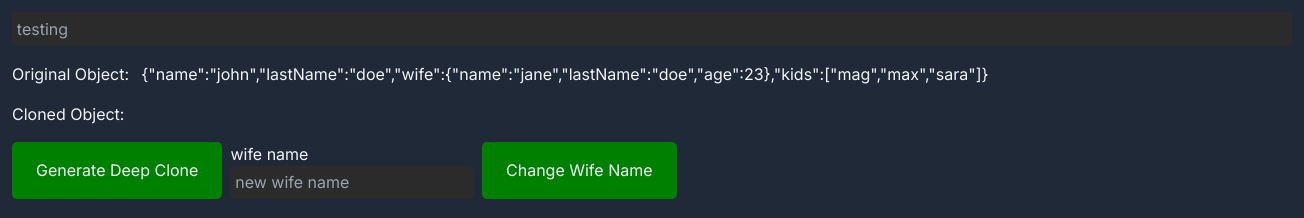
Test case: change wife name in orginal object
Step 1. Type "jenifer" into the field labelled "wife name" → (352, 182), box [230,166,474,199]
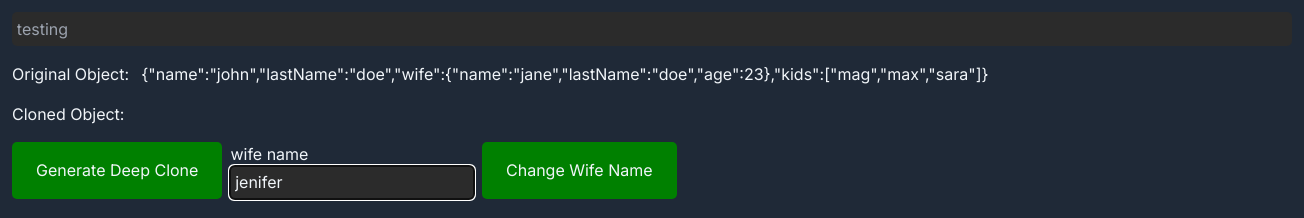
Step 2. Click the button "change wife name" → (579, 170), box [482,142,676,199]
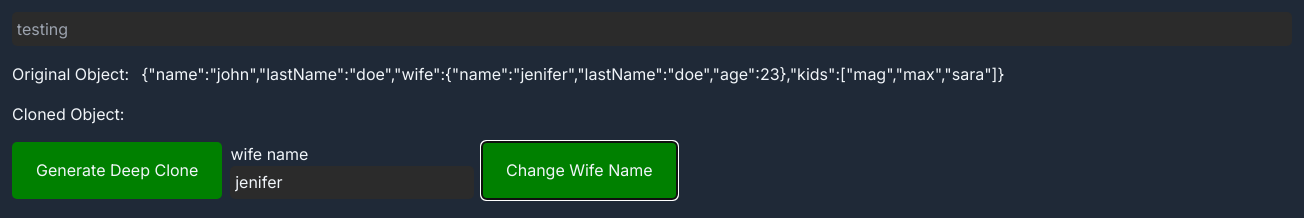
Result: the text with test id "org-obj" shows "{\"name\":\"john\",\"lastName\":\"doe\",\"wife\":{\"name\":\"jenifer\",\"lastName\":\"doe\",\"age\":23},\"kids\":[\"mag\",\"max\",\"sara\"]}" at [142,64,1004,84]
